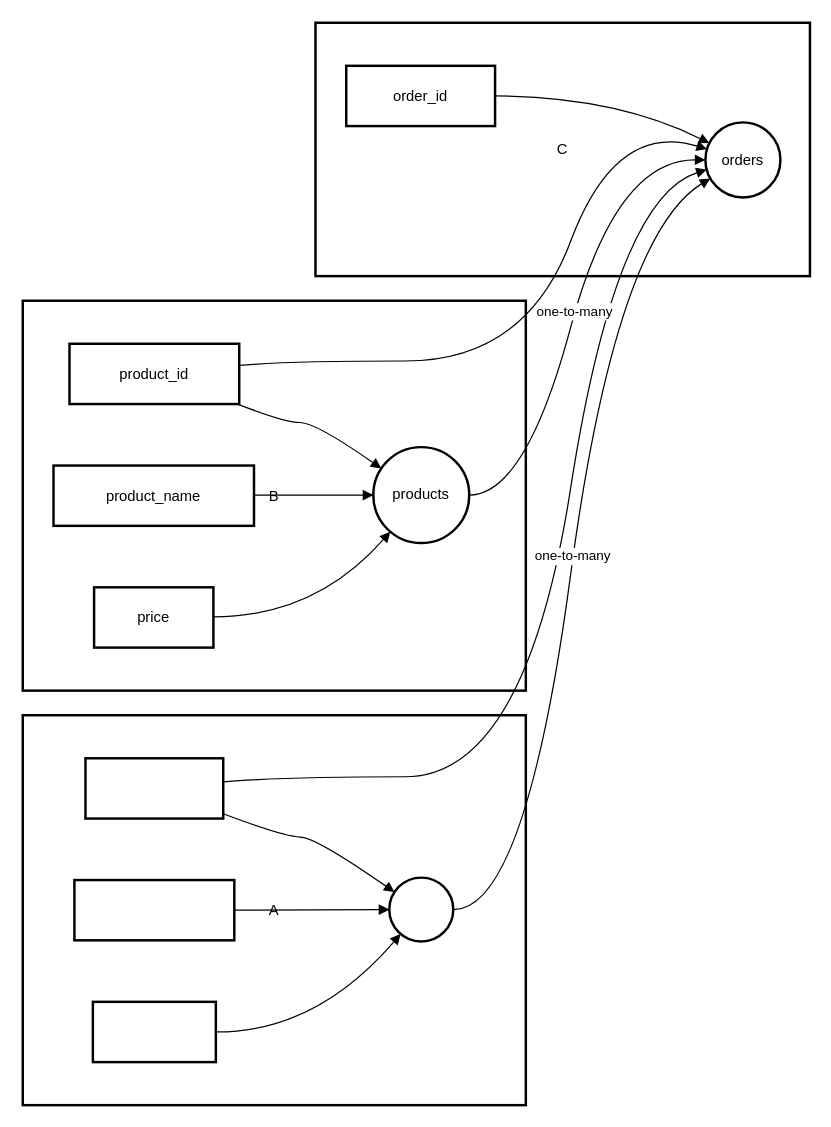
Some shapes in this 831 by 1127 pixel diagram are drawn without their labels. The centre of each missing label's shape, as x and y in pixels:
"email" belongs at (x=153, y=1031).
"user_id" belongs at (x=154, y=787).
"username" belongs at (x=154, y=909).
"users" belongs at (x=420, y=909).
